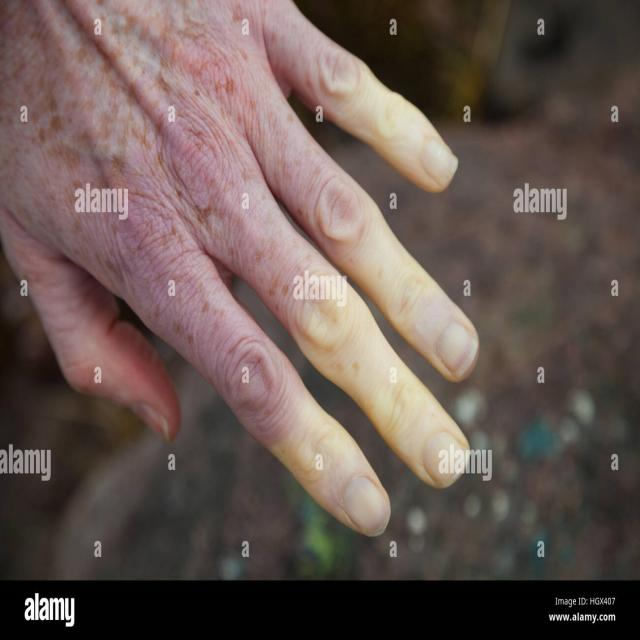raynauds: (320, 56, 440, 511), (270, 408, 377, 556)
